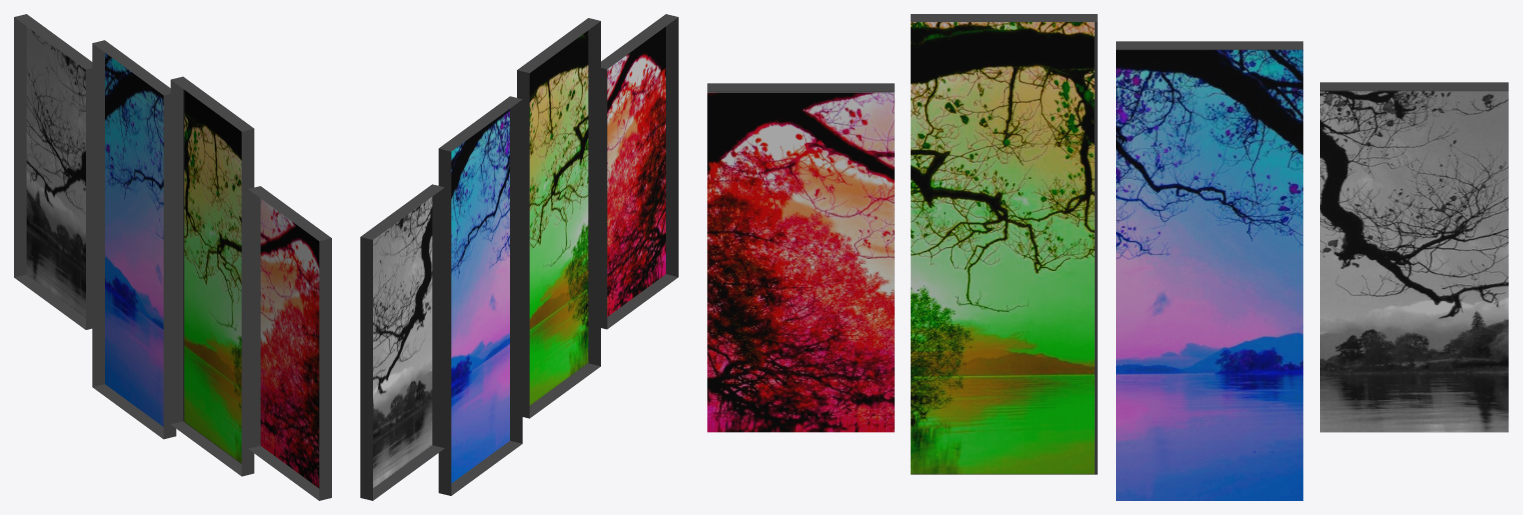
Rendered from RGBApainting.fbx.
3 views of the same model, side by side, from view 1: azimuth 30°, elevation 25°; view 2: azimuth 150°, elevation 25°; view 3: azimuth 270°, elevation 25° (orthographic). The views are drawn at different scales.
Parts seen in each view (by area): view 1: RGBApainting; view 2: RGBApainting; view 3: RGBApainting.
Boxes of the visible parts, left/top/right/bottom form: RGBApainting: left=14, top=14, right=331, bottom=500; RGBApainting: left=360, top=14, right=678, bottom=500; RGBApainting: left=707, top=14, right=1508, bottom=500.
Bounding box in the file's own units: 2.39 × 65.8 × 99.77.
